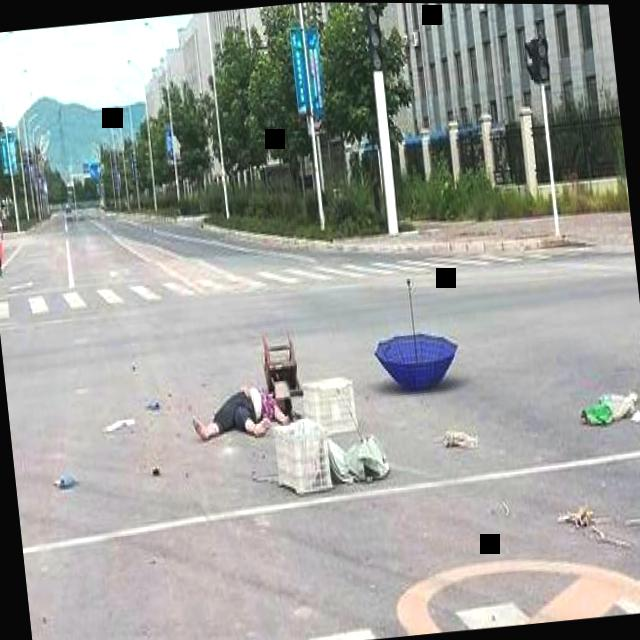Fall-Detected: (177, 350, 304, 464)
